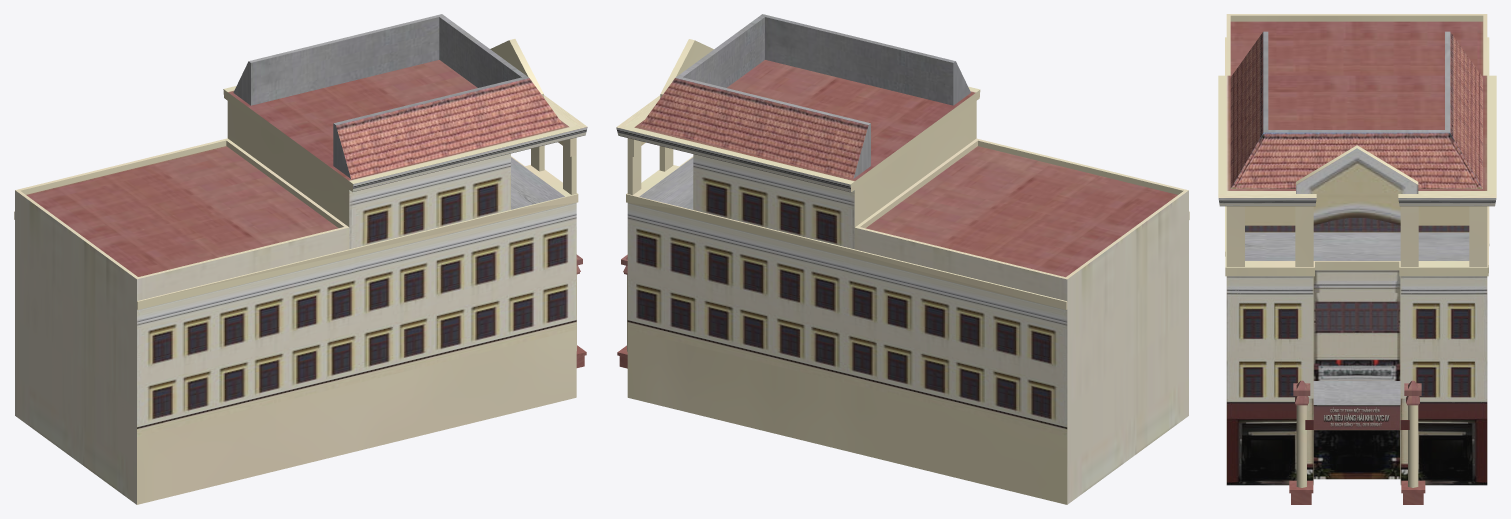
3 views of the same model, side by side, from view 1: azimuth 30°, elevation 25°; view 2: azimuth 150°, elevation 25°; view 3: azimuth 270°, elevation 25° (orthographic). The views are drawn at different scales.
Parts seen in each view (by area): view 1: 5cbd8e8ed12f8796ec0c015e.001; view 2: 5cbd8e8ed12f8796ec0c015e.001; view 3: 5cbd8e8ed12f8796ec0c015e.001.
Boxes of the visible parts, x1,y1,x2,y2 form: 5cbd8e8ed12f8796ec0c015e.001: [14, 14, 587, 504]; 5cbd8e8ed12f8796ec0c015e.001: [616, 14, 1189, 504]; 5cbd8e8ed12f8796ec0c015e.001: [1218, 14, 1496, 504].
Bounding box in the file's own units: 29.51 × 18.52 × 13.86.
1 material, 1 textured.
